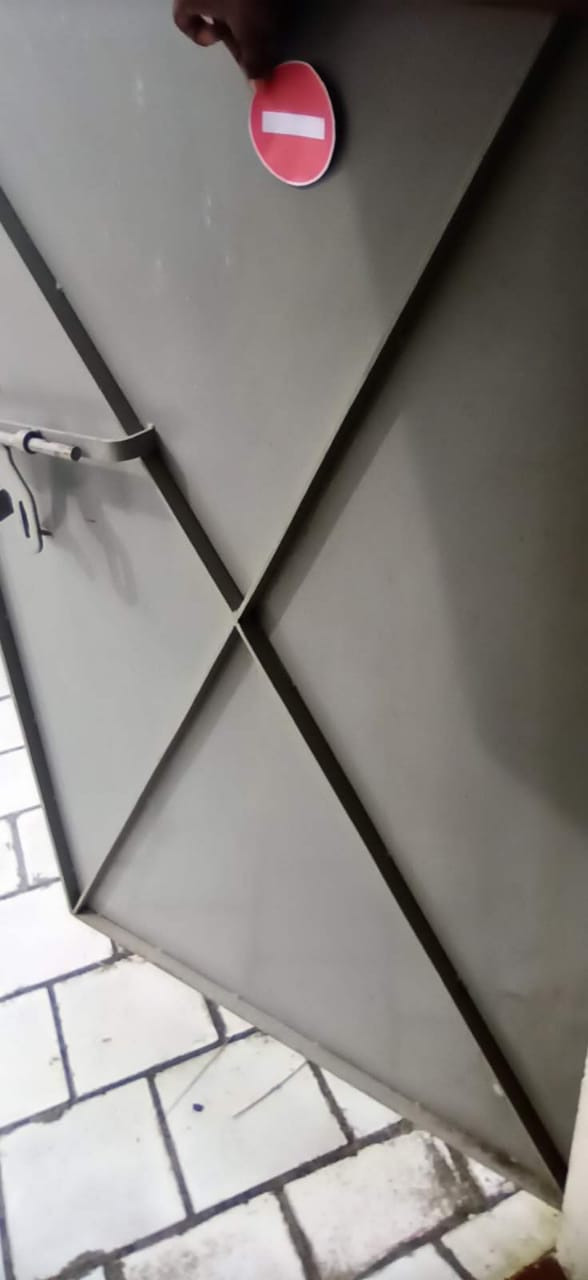NO ENTRY: (231, 58, 354, 194)
